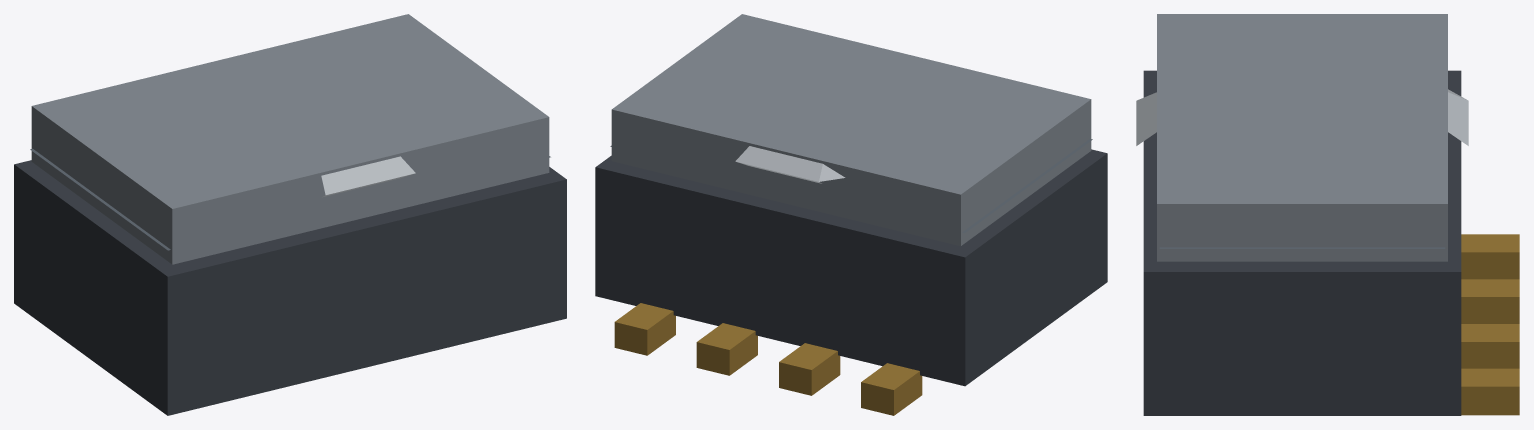
The model's file is droid-dura-plating-mk-1.lod.glb.
The picture shows the model from 3 angles, left to right: view 1: azimuth 30°, elevation 25°; view 2: azimuth 150°, elevation 25°; view 3: azimuth 270°, elevation 25°; orthographic projection. The views are drawn at different scales.
Visible parts, largest first — view 1: m; view 2: m; view 3: m.
Part boxes in pixels (bbox=[...]): m: bbox=[14, 14, 566, 415]; m: bbox=[595, 14, 1107, 415]; m: bbox=[1136, 14, 1519, 415].
Size of the model in its own units: 0.1 by 0.0533 by 0.0804.
